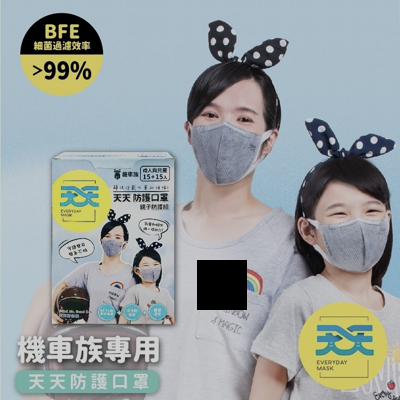with_mask: (190, 100, 267, 186), (317, 198, 391, 274)
